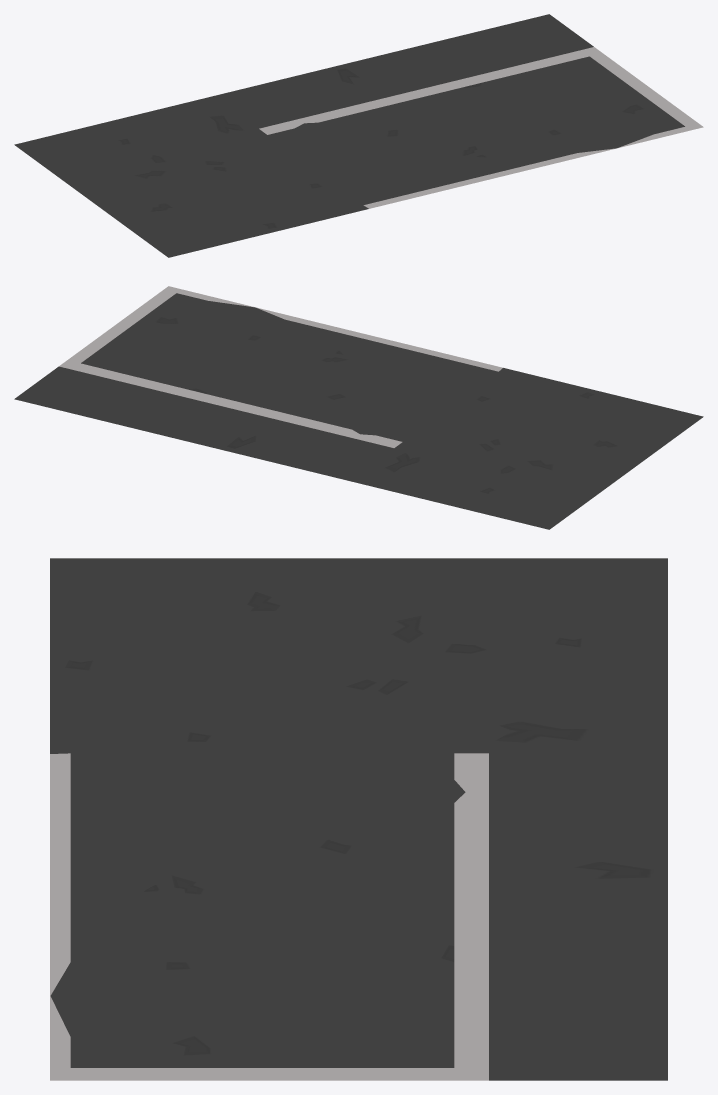
File: SM_Gen_Env_Road_Parking_06.glb
The picture shows the model from 3 angles, top to bottom: view 1: azimuth 30°, elevation 25°; view 2: azimuth 150°, elevation 25°; view 3: azimuth 270°, elevation 25°; orthographic projection. The views are drawn at different scales.
Visible parts, largest first — view 1: SM_Gen_Env_Road_Parking_062; view 2: SM_Gen_Env_Road_Parking_062; view 3: SM_Gen_Env_Road_Parking_062.
Boxes of the visible parts, x1,y1,x2,y2 form: SM_Gen_Env_Road_Parking_062: (14,14,703,257); SM_Gen_Env_Road_Parking_062: (14,286,703,529); SM_Gen_Env_Road_Parking_062: (50,558,667,1080).
Size of the model in its own units: 10 by 0.000107 by 5.
1 material, 1 textured.
